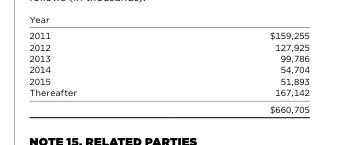table: (28, 29, 308, 113)
table column: (28, 29, 172, 113), (172, 29, 308, 113)
table row: (28, 86, 308, 100), (28, 100, 308, 113), (28, 51, 308, 63), (28, 74, 308, 86), (28, 29, 308, 40), (28, 40, 308, 51), (28, 63, 308, 74)
